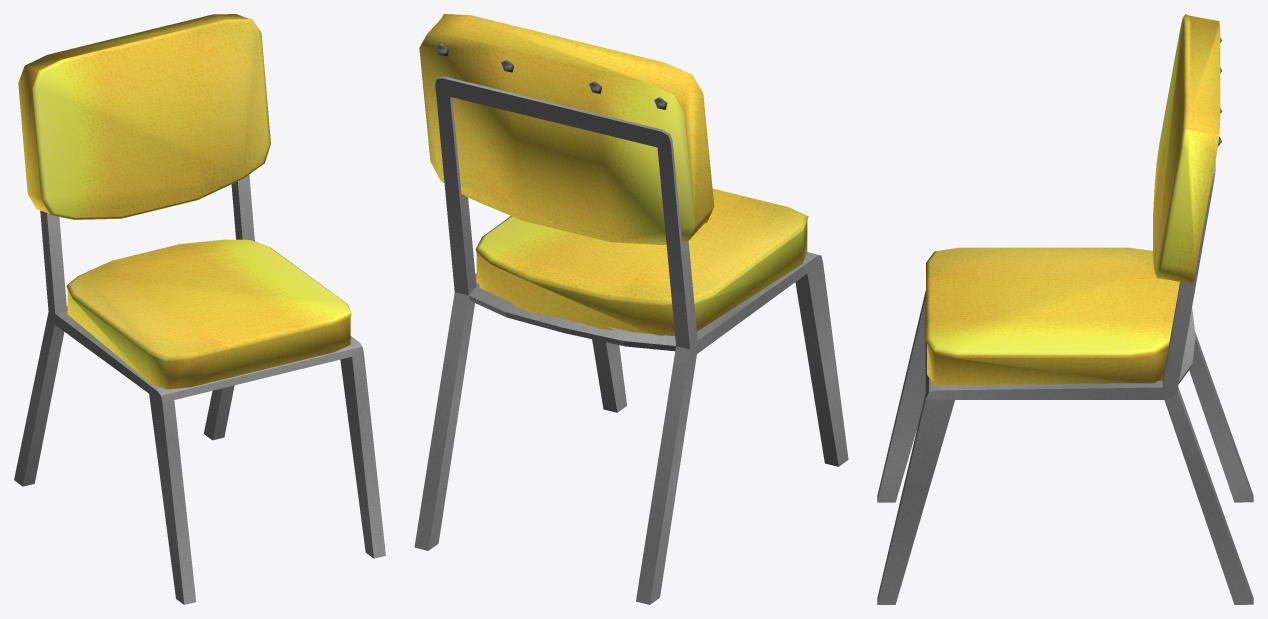
Rendered from Dining_Chair_04.FBX.
3 views of the same model, side by side, from view 1: azimuth 30°, elevation 25°; view 2: azimuth 150°, elevation 25°; view 3: azimuth 270°, elevation 25° (orthographic). The views are drawn at different scales.
Parts seen in each view (by area): view 1: Dining_Chair; view 2: Dining_Chair; view 3: Dining_Chair.
Boxes of the visible parts, x1,y1,x2,y2 form: Dining_Chair: [14, 14, 385, 604]; Dining_Chair: [414, 14, 848, 604]; Dining_Chair: [877, 14, 1253, 604].
Size of the model in its own units: 102 by 186 by 131.
